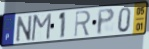0: (117, 6, 132, 33)
1: (58, 11, 67, 40)
M: (30, 12, 53, 43)
N: (15, 14, 33, 44)
P: (96, 7, 116, 36)
R: (73, 9, 92, 38)
